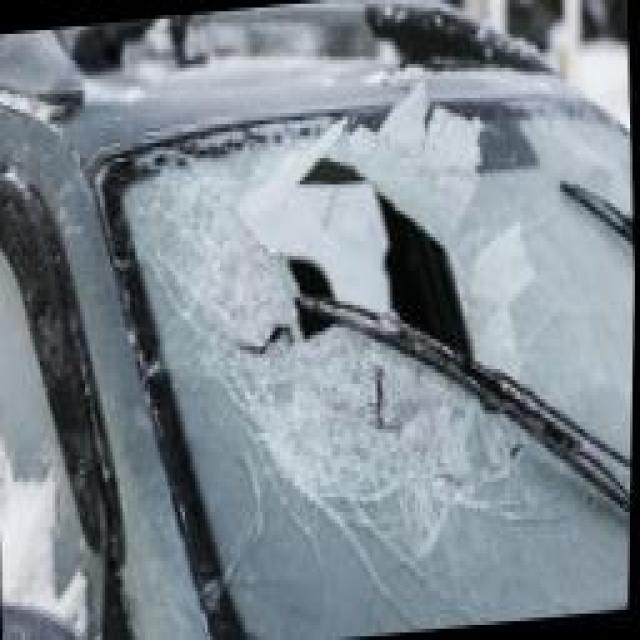Windshield: (152, 87, 639, 640)
